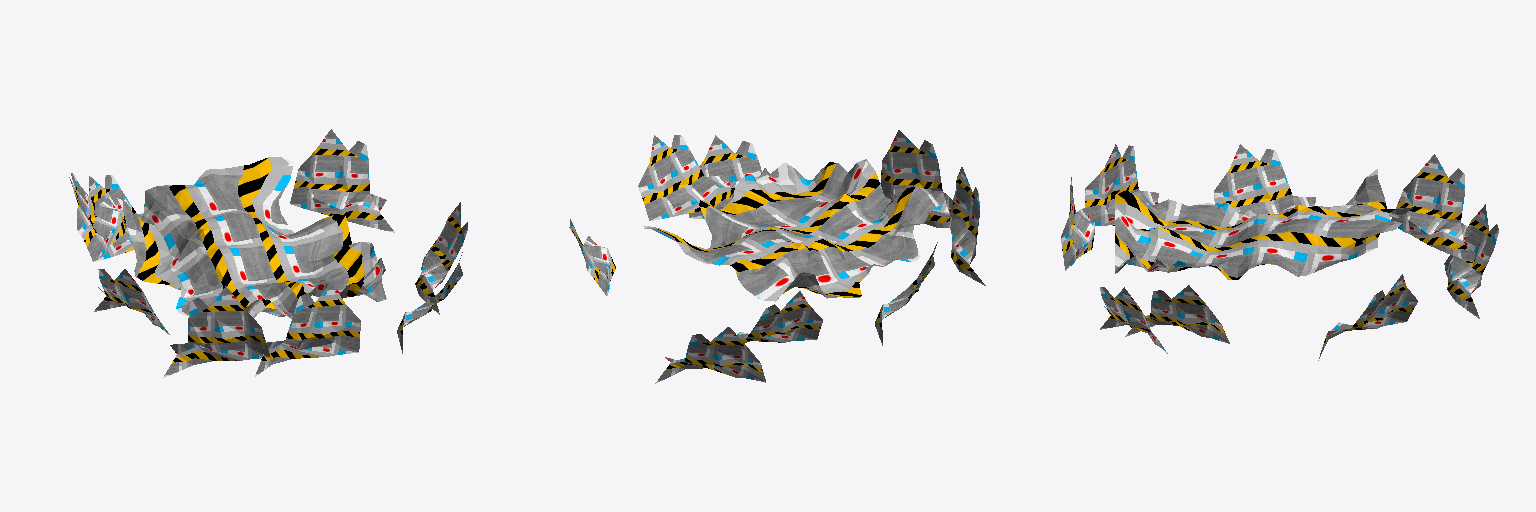
3 renders of one model, left to right at view 1: azimuth 30°, elevation 25°; view 2: azimuth 150°, elevation 25°; view 3: azimuth 270°, elevation 25°, orthographic.
Visible parts, largest first — view 1: Plane_Plane.005; view 2: Plane_Plane.005; view 3: Plane_Plane.005.
Part boxes in pixels (left/top/right/bottom): Plane_Plane.005: left=69, top=129, right=467, bottom=377; Plane_Plane.005: left=569, top=130, right=985, bottom=383; Plane_Plane.005: left=1061, top=144, right=1498, bottom=360.
Bounding box in the file's own units: 4417 × 1534 × 5259.
1 materials, 1 textured.